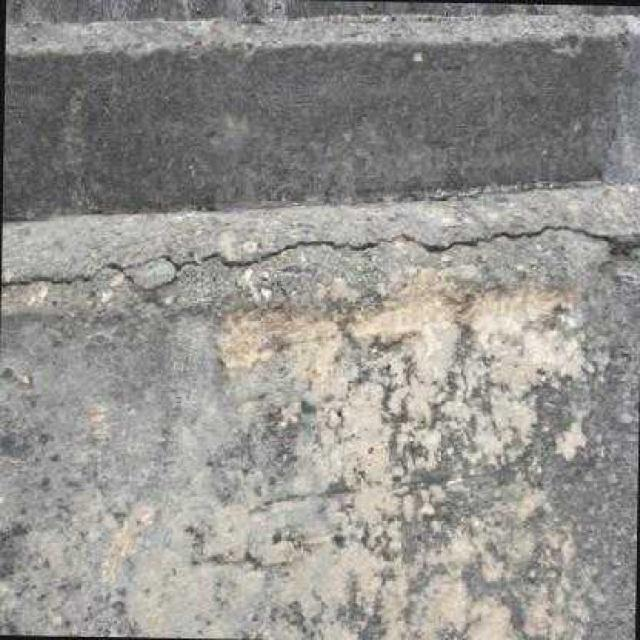D00: (0, 218, 612, 292)
